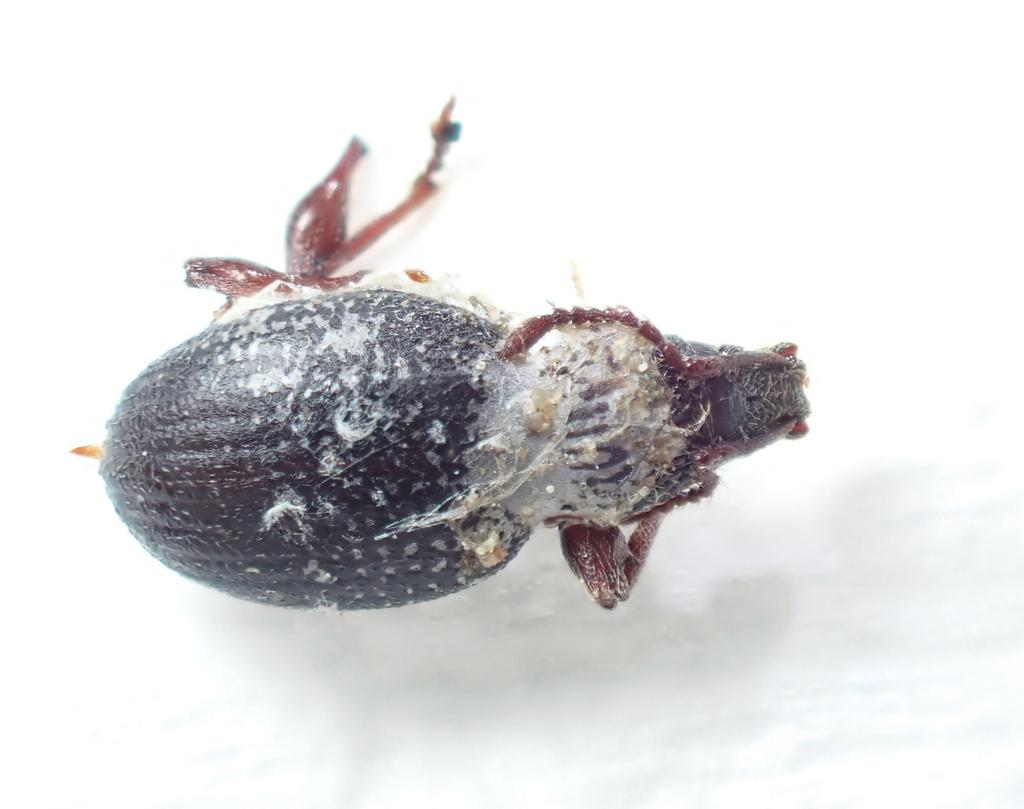weevils: (9, 42, 898, 694)
